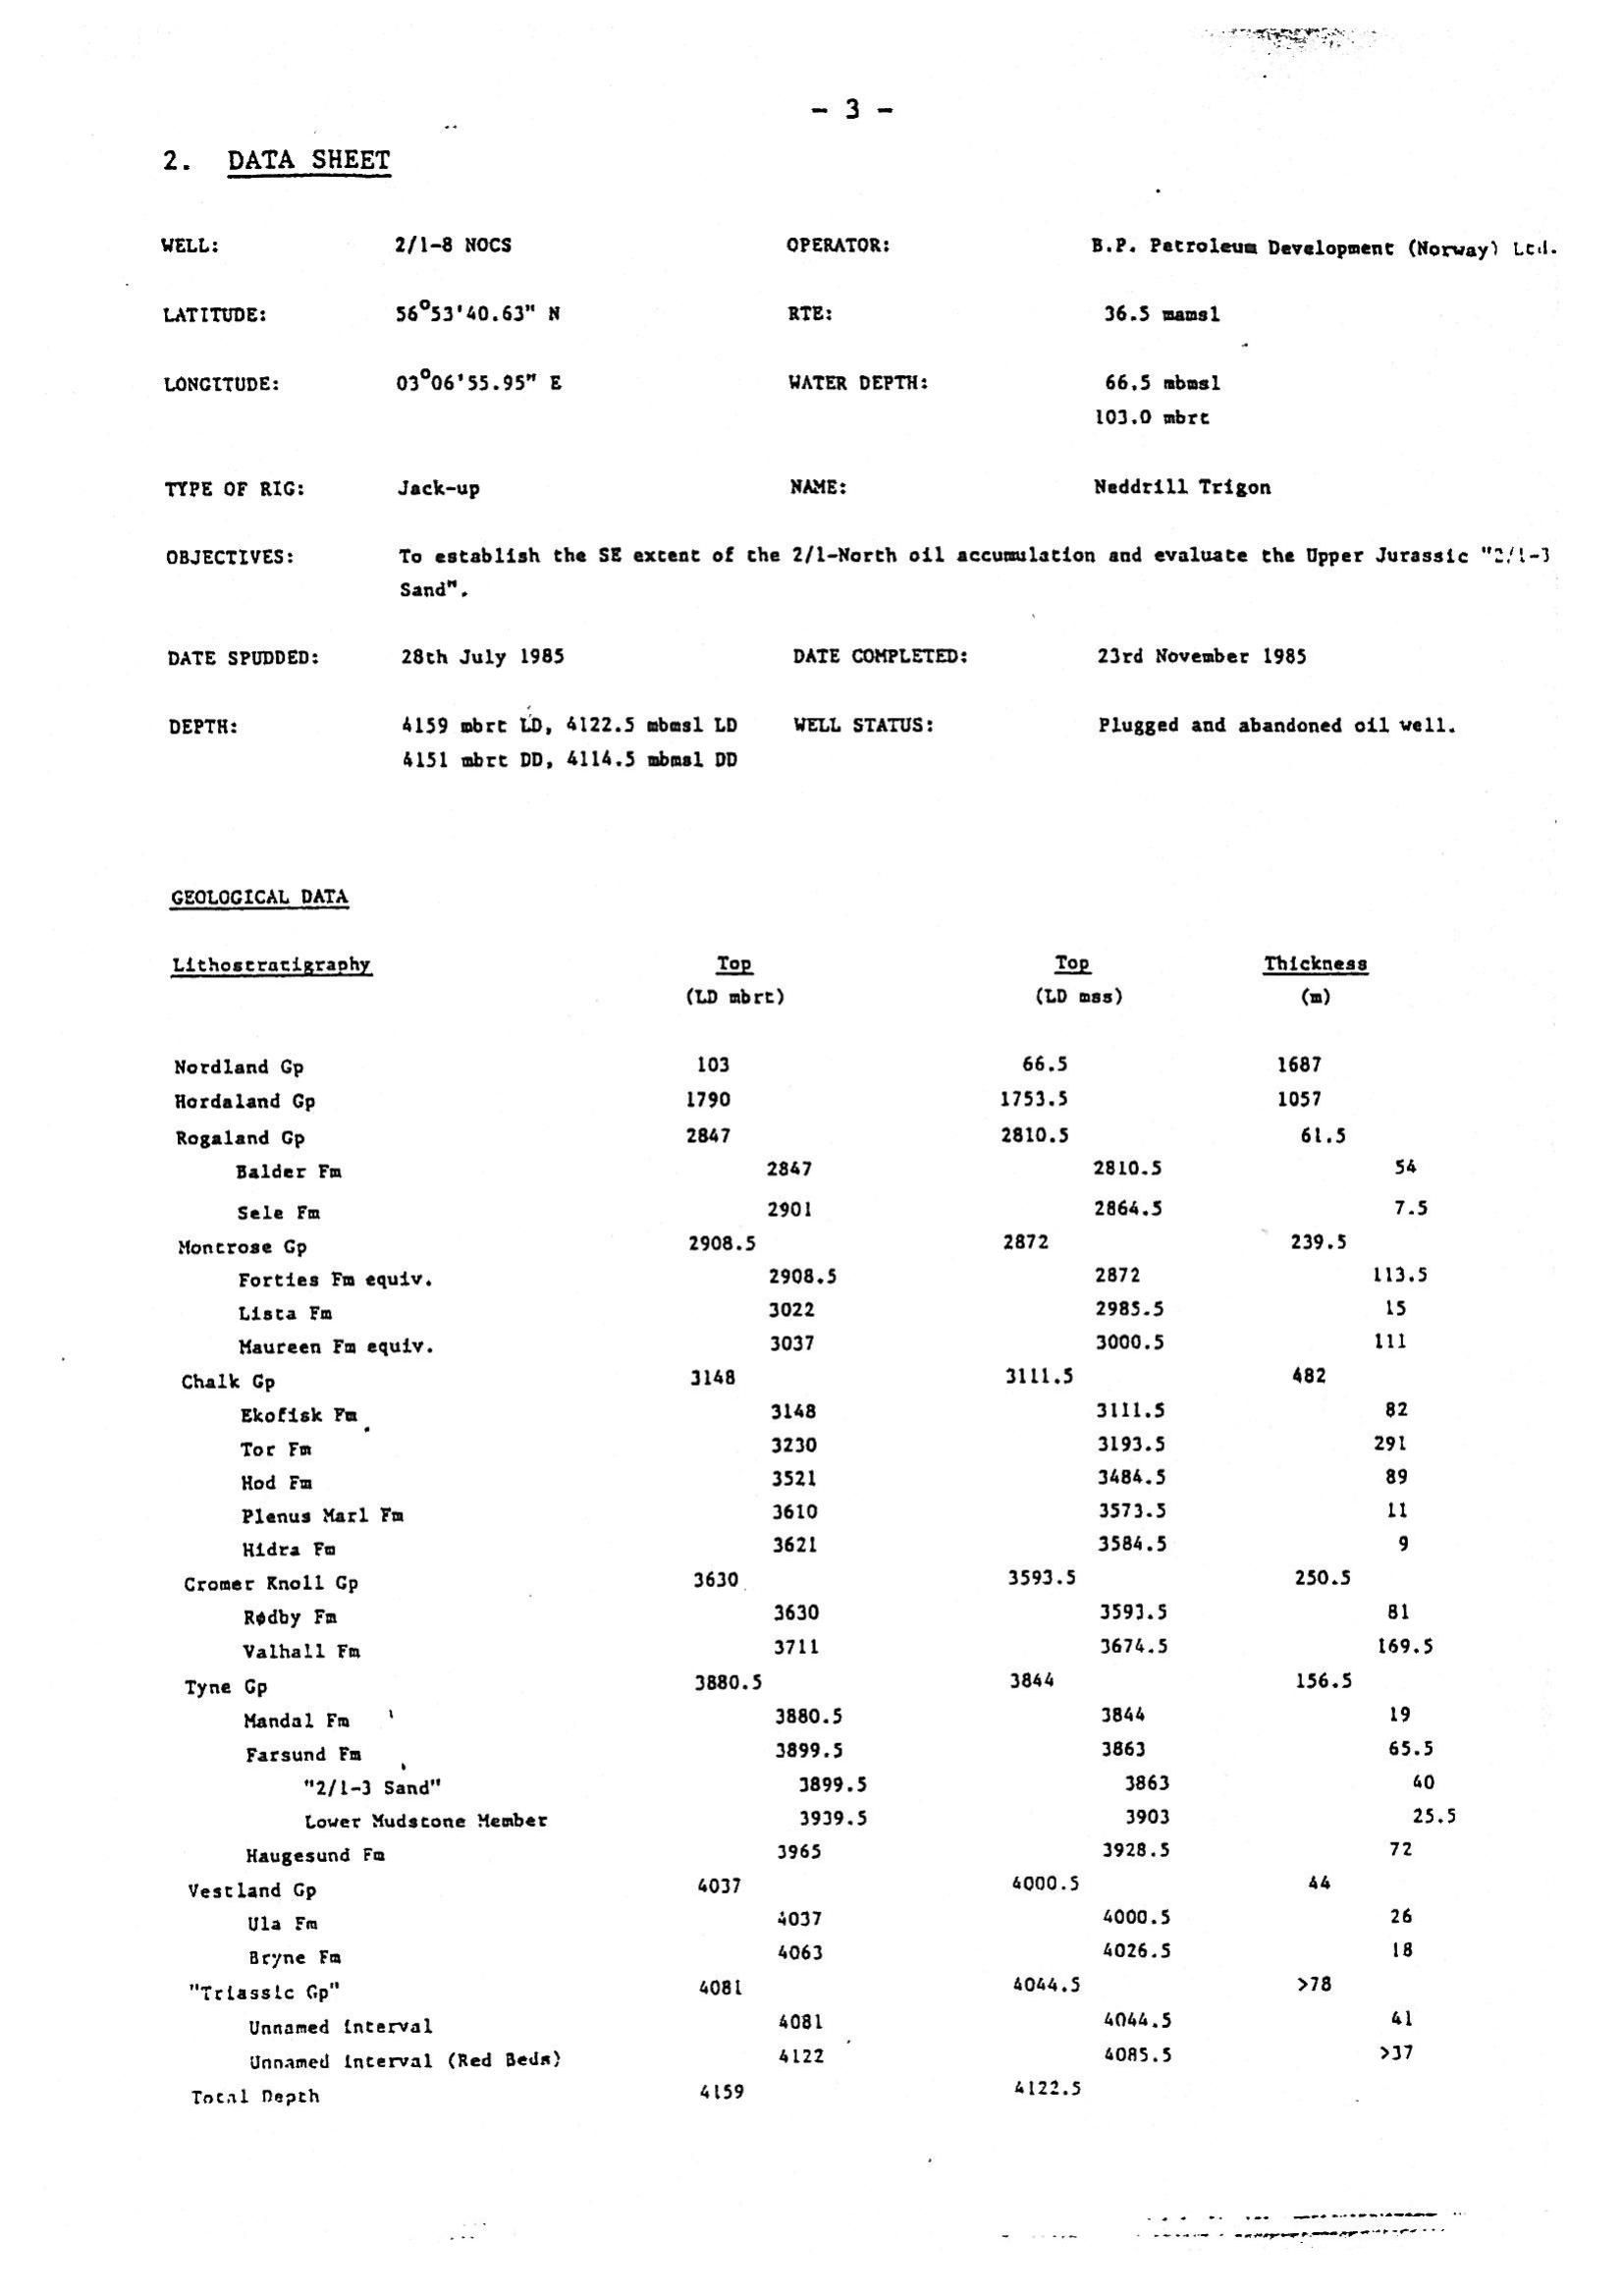table: (132, 929, 1509, 2140)
text: (133, 121, 1579, 856), (153, 863, 364, 917)
